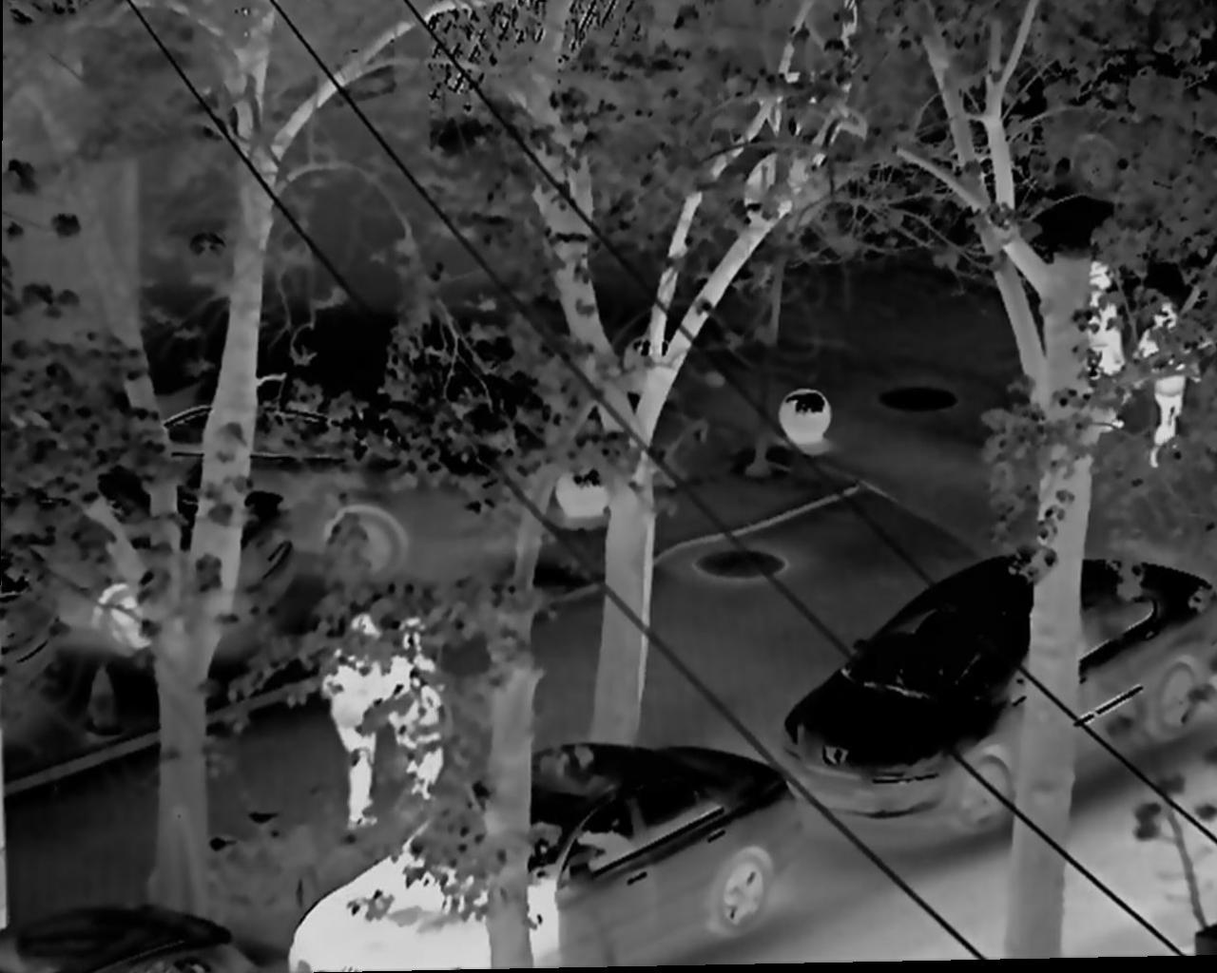person: (318, 615, 395, 827), (390, 622, 458, 831), (1132, 293, 1199, 471), (1073, 262, 1129, 443)
